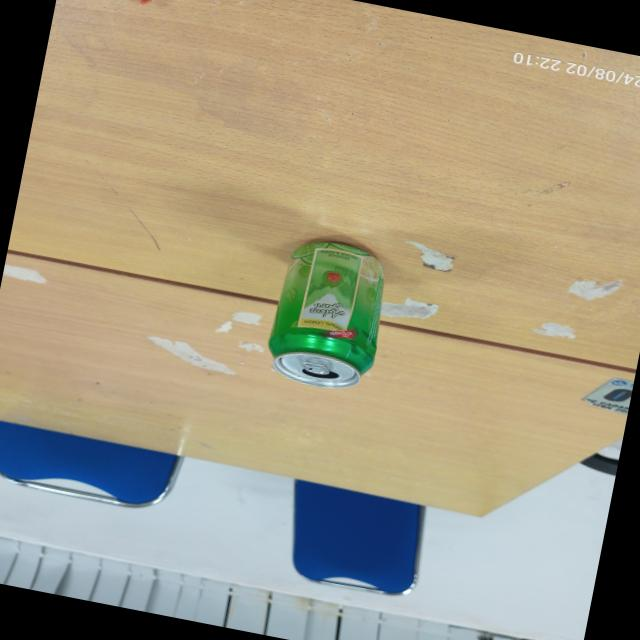ademsarikaleng: (260, 232, 398, 398)
